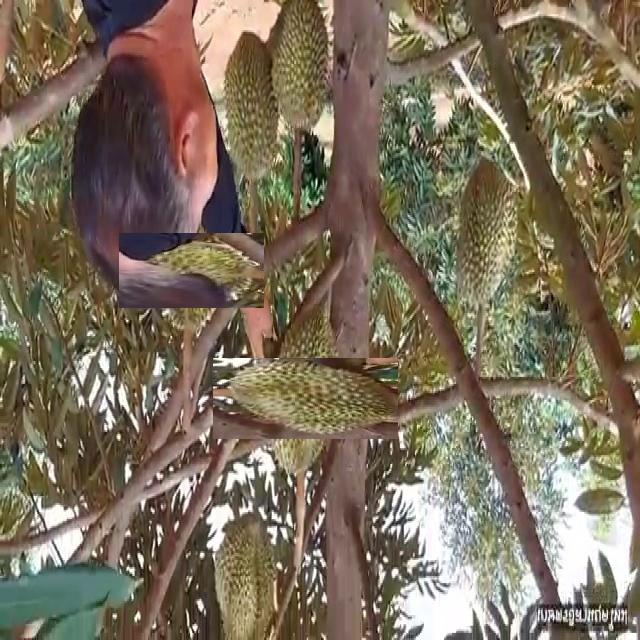durian: (239, 332, 373, 465), (136, 215, 247, 325), (222, 24, 282, 196), (455, 158, 518, 314), (211, 514, 283, 640), (266, 3, 329, 140)
